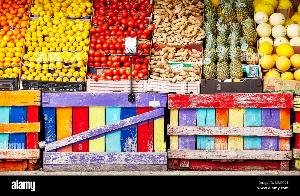lemon: (21, 0, 91, 88)
melon: (254, 1, 300, 80)
pineapple: (205, 1, 260, 80)
tomato: (88, 0, 154, 90)
